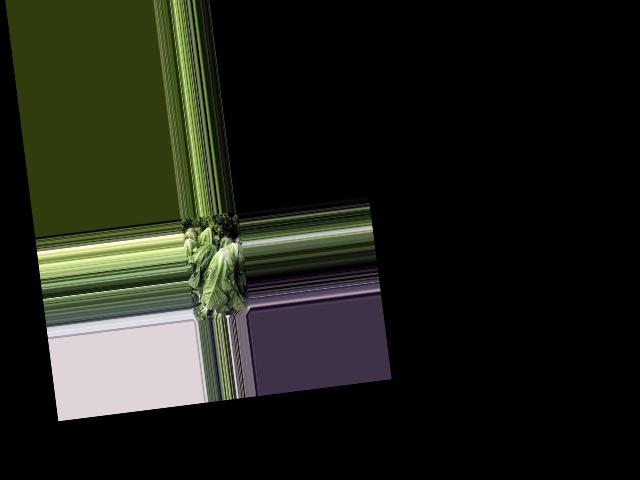lettuce: (186, 241, 220, 290)
